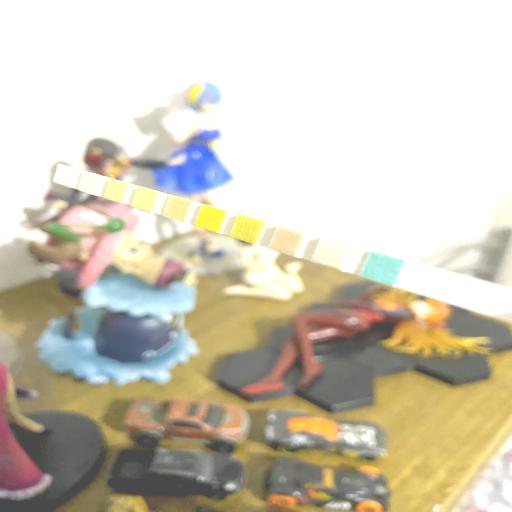Bilirubin: (318, 245, 342, 263)
Blood: (200, 210, 218, 227)
Glucose: (368, 259, 396, 278)
Ketone: (275, 232, 297, 250)
Leukocytes: (58, 168, 70, 184)
Nitrite: (82, 175, 96, 191)
Protein: (136, 191, 152, 207)
SpGravity: (236, 221, 254, 238)
Urobilinogen: (108, 182, 122, 198)
pH: (167, 199, 184, 217)
strip: (52, 164, 512, 324)
